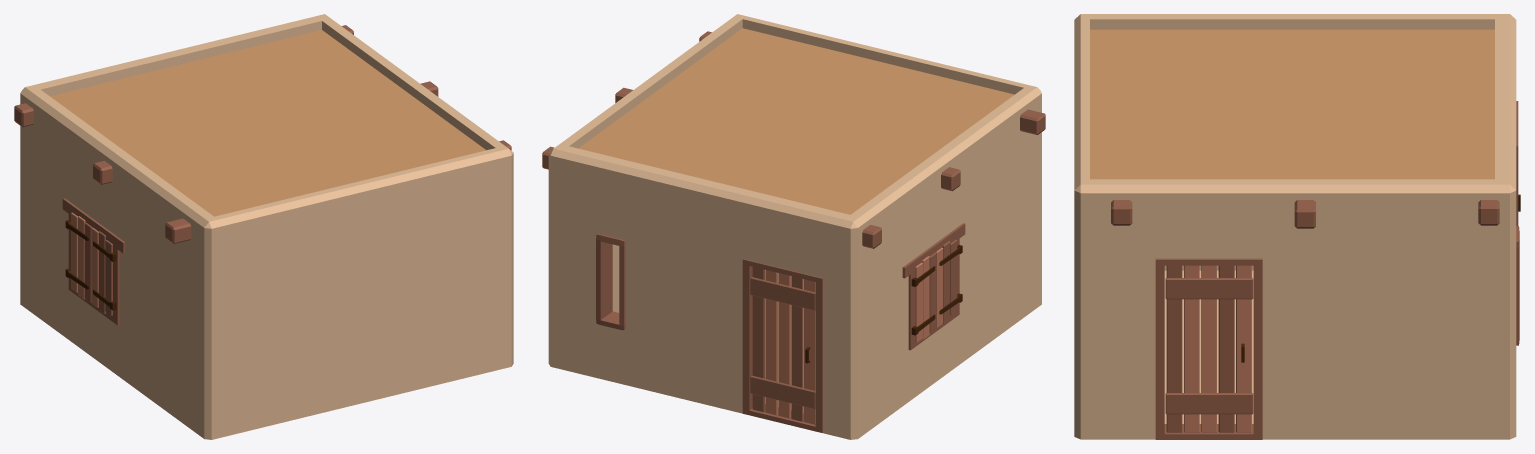
Rendered from Small Building A.fbx.
3 renders of one model, left to right at view 1: azimuth 30°, elevation 25°; view 2: azimuth 150°, elevation 25°; view 3: azimuth 270°, elevation 25°, orthographic. The views are drawn at different scales.
Parts seen in each view (by area): view 1: Small Building A; view 2: Small Building A; view 3: Small Building A.
Boxes of the visible parts, left/top/right/bottom form: Small Building A: left=14, top=14, right=513, bottom=439; Small Building A: left=542, top=14, right=1045, bottom=439; Small Building A: left=1074, top=14, right=1520, bottom=439.
Size of the model in its own units: 548 by 328 by 527.
